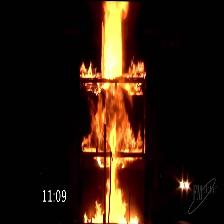fire: (75, 0, 146, 216)
